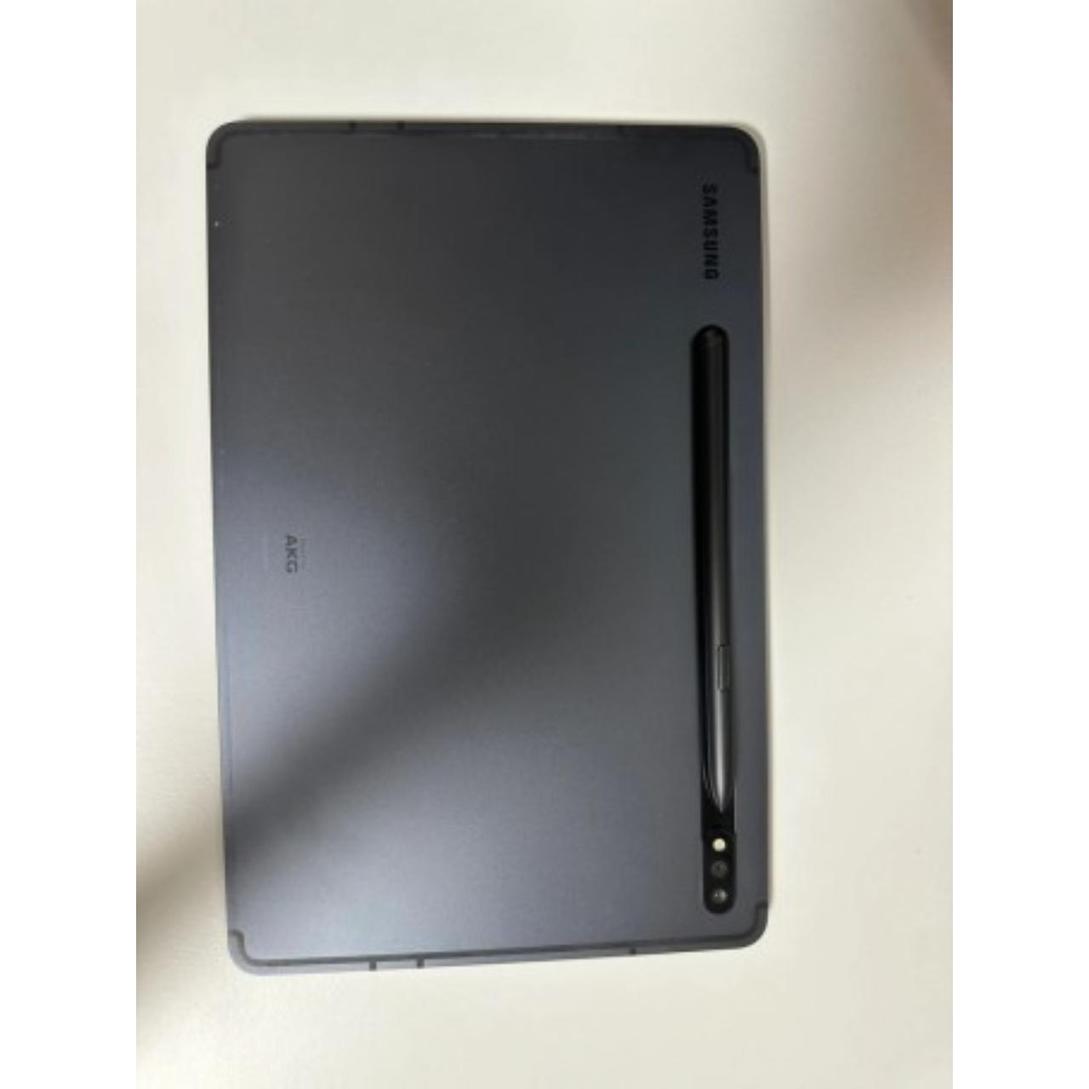Tablet_PC: (192, 111, 785, 983)
